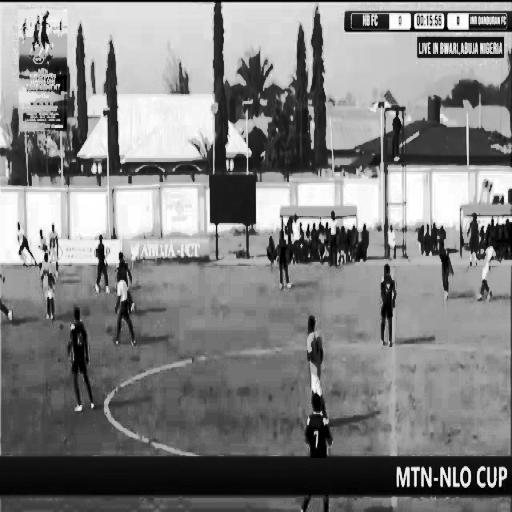referee: (108, 269, 136, 350), (12, 225, 36, 265)
team1: (306, 308, 328, 414), (474, 225, 498, 304), (40, 253, 56, 326), (50, 223, 58, 270), (39, 222, 47, 265)
team2: (66, 314, 98, 422), (374, 259, 400, 346), (304, 390, 330, 460), (437, 240, 457, 305), (92, 235, 110, 293), (278, 233, 291, 290), (114, 251, 128, 282)
